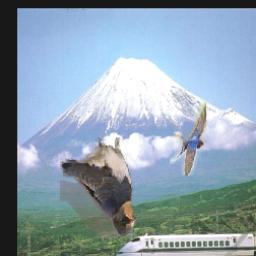Swallow: (61, 137, 137, 238), (170, 103, 206, 177)
